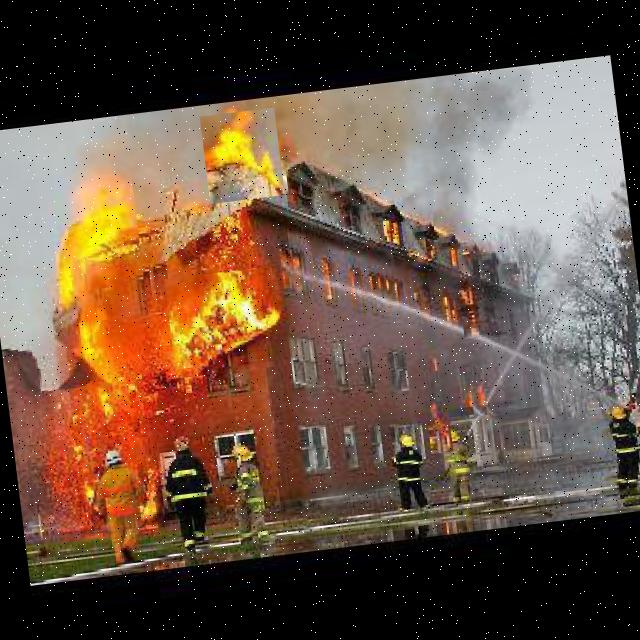fire: (30, 171, 148, 326), (39, 380, 144, 538), (164, 266, 281, 378), (200, 108, 284, 204), (425, 401, 453, 454), (458, 286, 479, 338), (469, 379, 486, 416), (381, 209, 390, 236)
